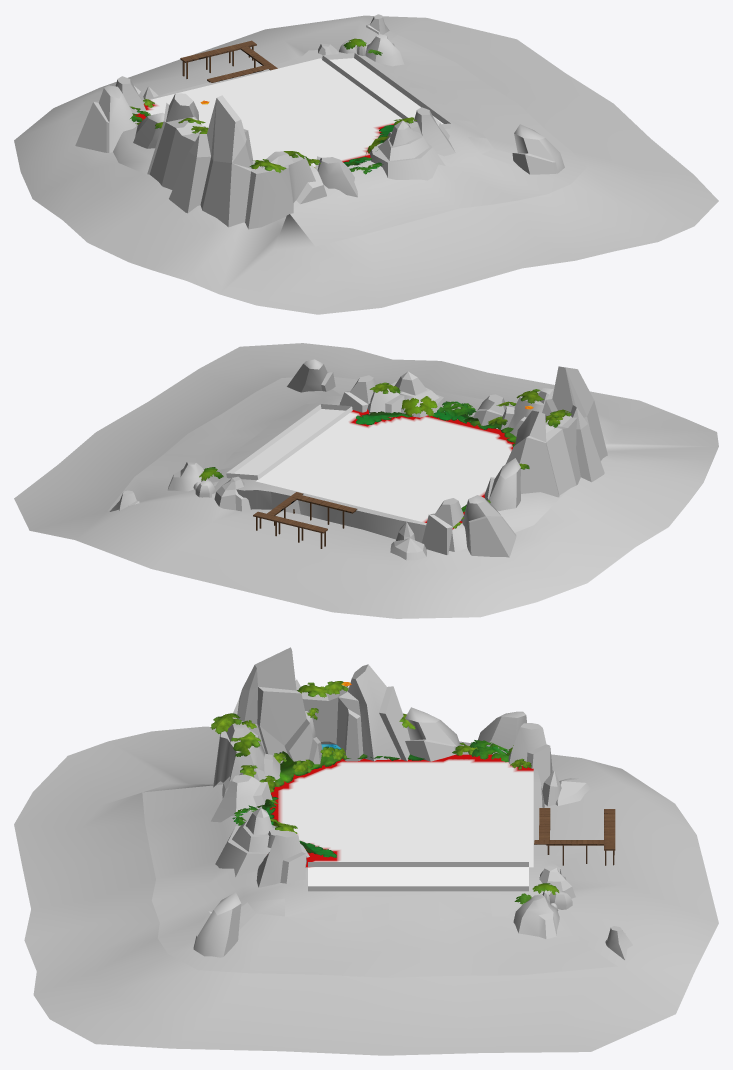
Rendered from island_new.FBX.
3 renders of one model, top to bottom at view 1: azimuth 30°, elevation 25°; view 2: azimuth 150°, elevation 25°; view 3: azimuth 270°, elevation 25°, orthographic. The views are drawn at different scales.
Visible parts, largest first — view 1: Rectangle007, hill, ref_plane, army area plane, Line027, Rectangle010, army area wall; view 2: Rectangle007, hill, ref_plane, Line027, army area plane, Rectangle010, army area wall; view 3: Rectangle007, hill, ref_plane, army area plane, Line027, army area wall, Rectangle010, 对象003.
Part boxes in pixels (x1=…): Rectangle007: x1=14, y1=15, x2=718, y2=314; hill: x1=75, y1=14, x2=564, y2=229; ref_plane: x1=134, y1=58, x2=402, y2=167; army area plane: x1=329, y1=58, x2=443, y2=124; Line027: x1=130, y1=98, x2=416, y2=174; Rectangle010: x1=180, y1=40, x2=277, y2=82; army area wall: x1=322, y1=53, x2=450, y2=128; Rectangle007: x1=14, y1=343, x2=718, y2=618; hill: x1=109, y1=359, x2=607, y2=560; ref_plane: x1=256, y1=409, x2=514, y2=529; Line027: x1=369, y1=382, x2=571, y2=528; army area plane: x1=233, y1=409, x2=345, y2=475; Rectangle010: x1=253, y1=492, x2=357, y2=548; army area wall: x1=226, y1=404, x2=352, y2=480; Rectangle007: x1=14, y1=726, x2=718, y2=1055; hill: x1=193, y1=647, x2=632, y2=960; ref_plane: x1=270, y1=744, x2=533, y2=867; army area plane: x1=308, y1=867, x2=528, y2=886; Line027: x1=210, y1=681, x2=531, y2=833; army area wall: x1=308, y1=862, x2=528, y2=891; Rectangle010: x1=534, y1=808, x2=615, y2=865; 对象003: x1=273, y1=746, x2=425, y2=789.
Bounding box in the file's own units: 138 × 33.95 × 132.
